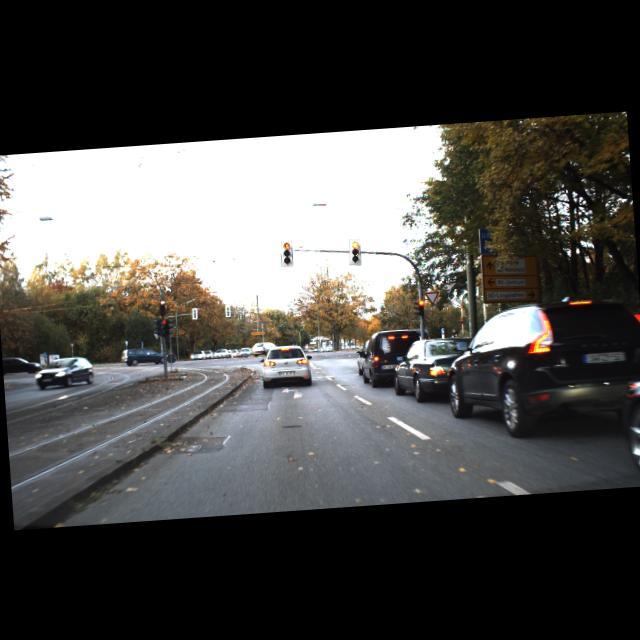other: (423, 290, 440, 304)
